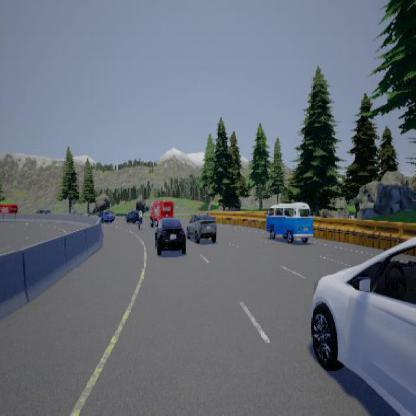vehicle: (310, 235, 415, 415), (265, 201, 313, 243), (154, 215, 186, 256), (186, 212, 216, 243), (148, 198, 175, 229), (125, 207, 143, 229), (93, 206, 113, 223)
